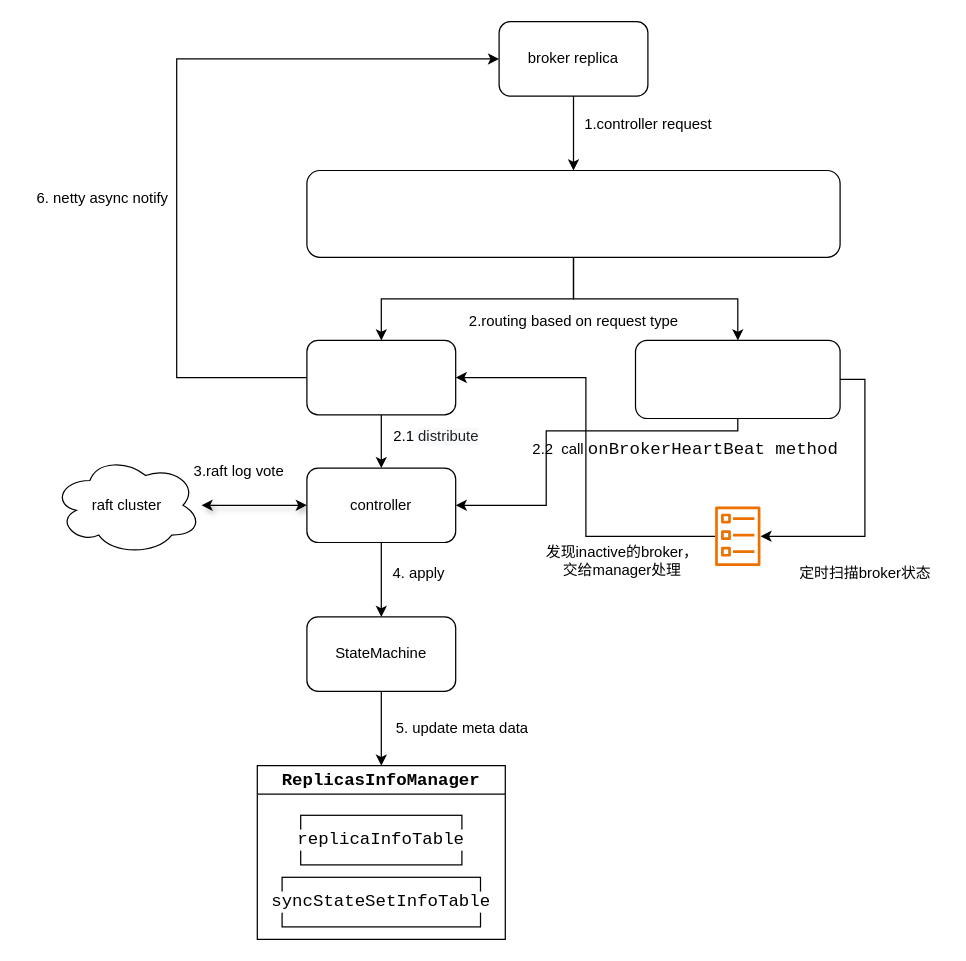
Some shapes in this 966 by 961 pixel diagram are drawn without their labels. Here are the shapes that lost their labels. From the top down, the centre of each, then its label:
At [573,213]: "ControllerRequestProcessor".
At [381,377]: "ControllerManager".
At [737,378]: "BrokerHeartbeatManager".
